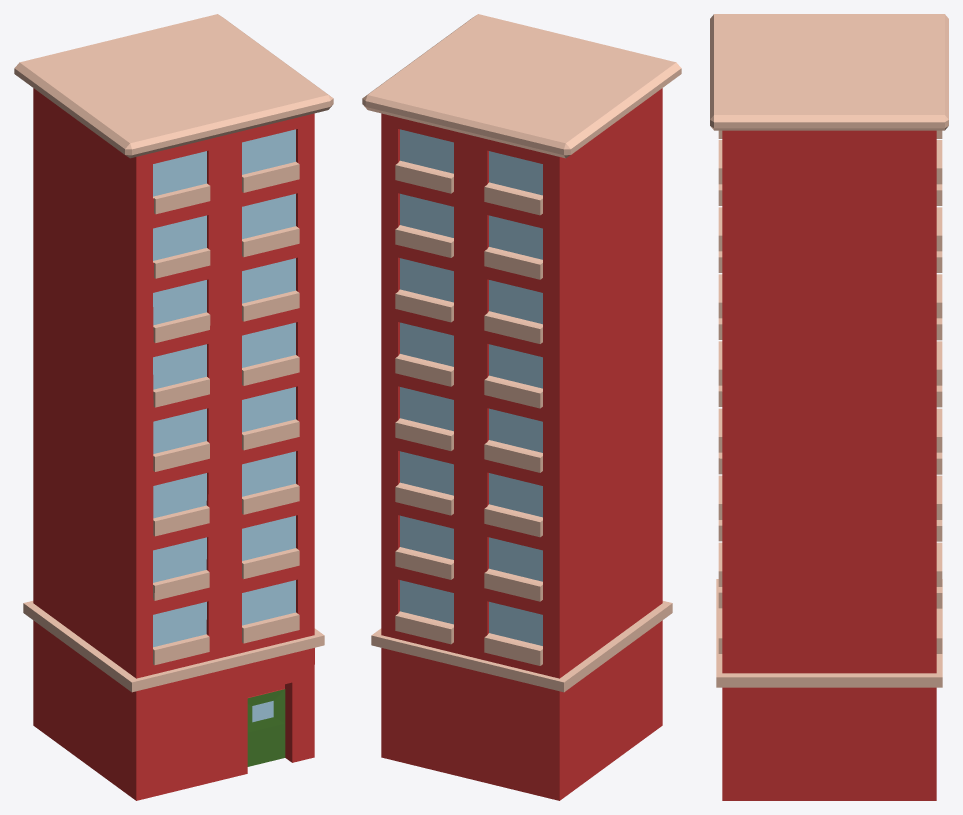
The model's file is flatA.fbx.
3 views of the same model, side by side, from view 1: azimuth 30°, elevation 25°; view 2: azimuth 150°, elevation 25°; view 3: azimuth 270°, elevation 25° (orthographic). The views are drawn at different scales.
Parts seen in each view (by area): view 1: FlatA; view 2: FlatA; view 3: FlatA.
Boxes of the visible parts, x1,y1,x2,y2 form: FlatA: (14,14,333,800); FlatA: (362,14,681,800); FlatA: (710,14,948,800).
Size of the model in its own units: 1102 by 3349 by 1049.
